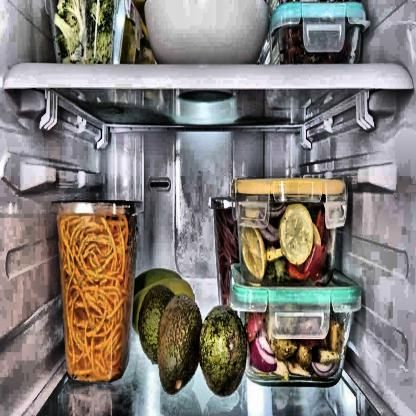broccoli: (57, 0, 113, 64)
lemon: (241, 227, 267, 278)
red_onion: (251, 336, 277, 369), (312, 361, 338, 378)
